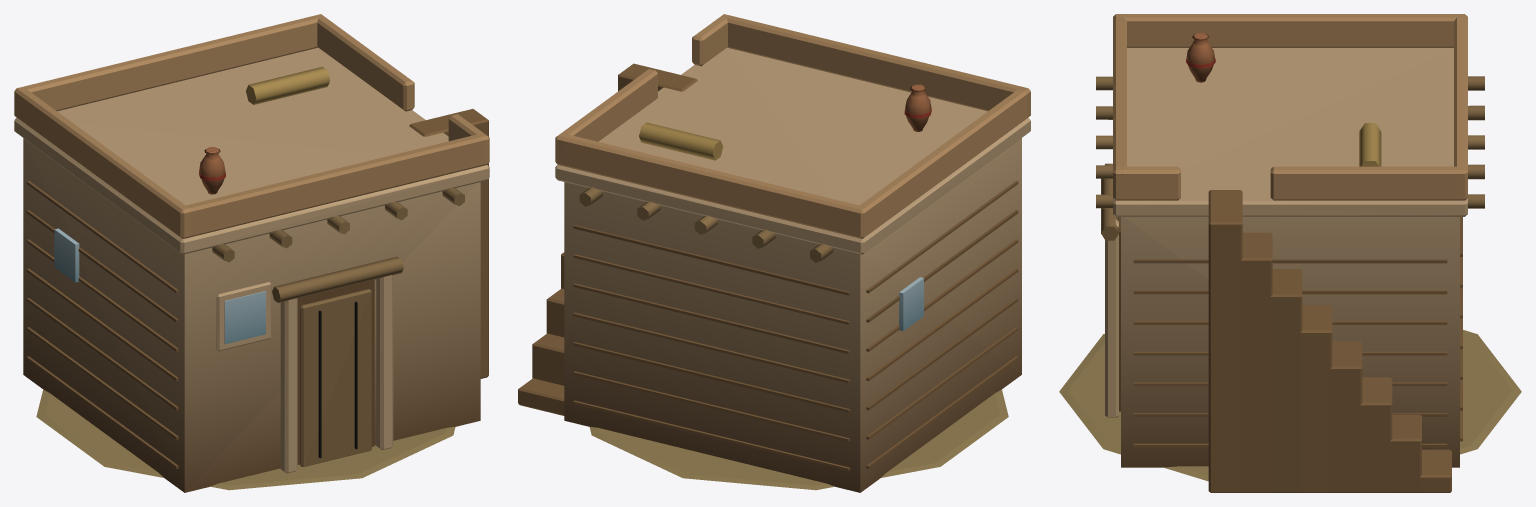
The model's file is mudbrick-house.glb.
3 renders of one model, left to right at view 1: azimuth 30°, elevation 25°; view 2: azimuth 150°, elevation 25°; view 3: azimuth 270°, elevation 25°, orthographic. The views are drawn at different scales.
Parts seen in each view (by area): view 1: mudbrick_house; view 2: mudbrick_house; view 3: mudbrick_house.
Part boxes in pixels (bbox=[...]): mudbrick_house: bbox=[14, 14, 489, 492]; mudbrick_house: bbox=[518, 14, 1030, 492]; mudbrick_house: bbox=[1059, 14, 1521, 492].
Size of the model in its own units: 4.63 by 3.48 by 4.64.
